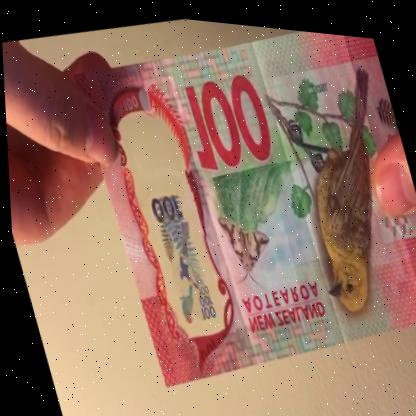100B: (127, 130, 222, 334)
